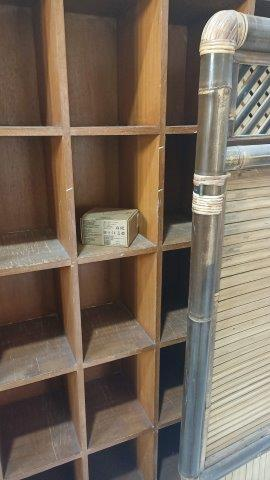kardus: (81, 207, 138, 247)
